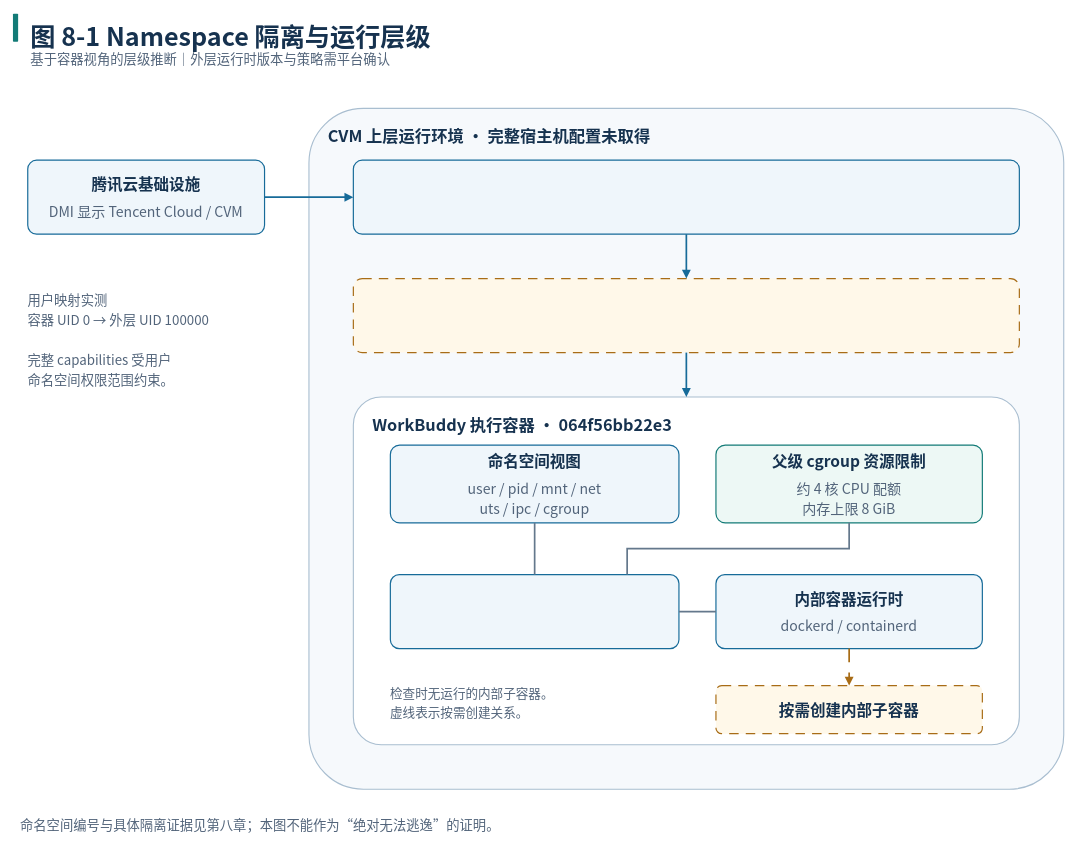
This 1079x857 diagram has some shape labels left out. Here are the shapes that lost their labels. From the top down, the centre of each, then its label:
the point at 686,196: CVM 虚拟机 共享 Linux 内核及上层计算、存储资源
the point at 686,315: 平台外层容器运行时 存在 Sysbox 特征；准确版本与创建参数待确认
the point at 534,611: 容器内进程 docker-init / Supervisor 平台服务及开发任务
